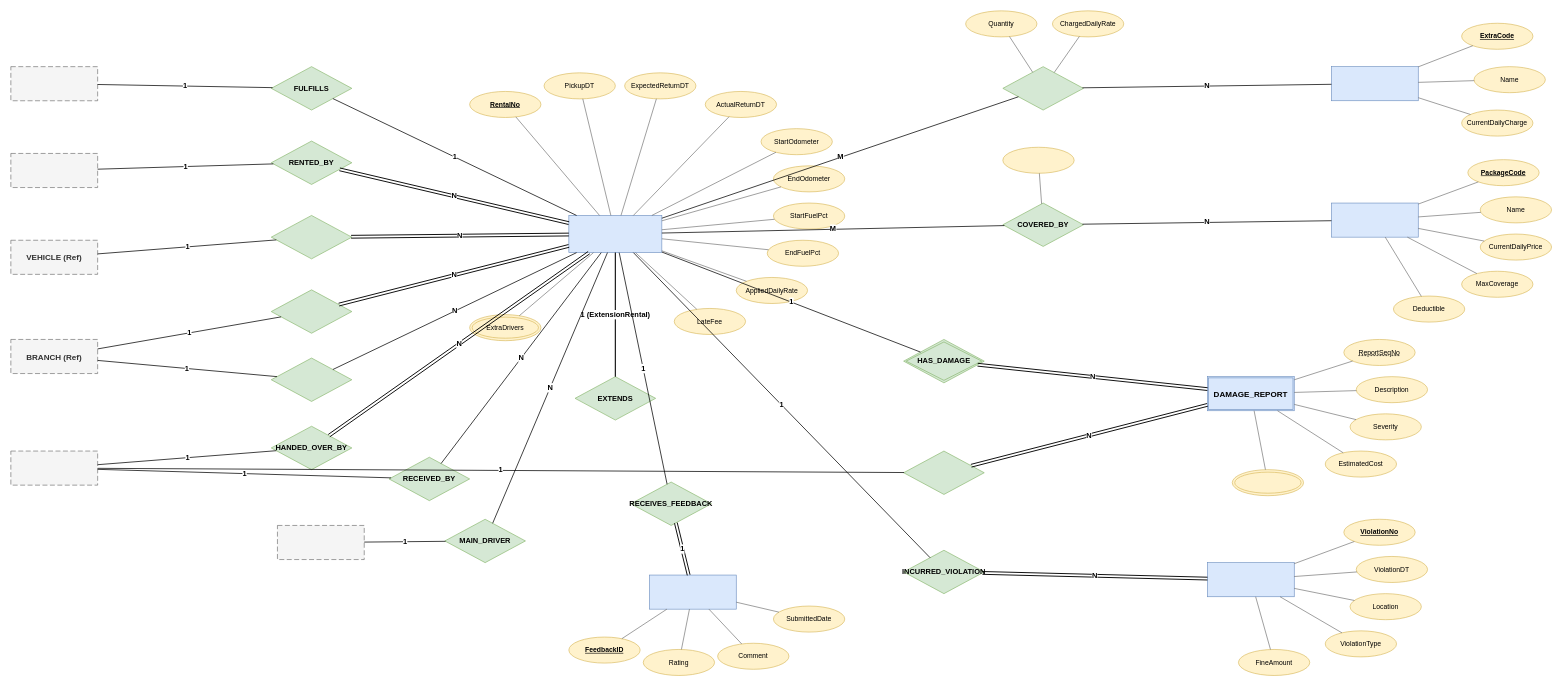
The diagram is 1562 pixels wide and 686 high, and some of its shapes have lost their labels. The centre of each missing label's shape, as x and y in pixels:
"ACTUAL_PICKUP" goes at point 311,311.
"ACTUAL_RETURN" goes at point 311,379.
"AUTHORIZED_DRIVER (Ref)" goes at point 320,542.
"ChargedDailyPrice" goes at point 1038,160.
"CUSTOMER (Ref)" goes at point 54,170.
"EMPLOYEE (Ref)" goes at point 54,467.
"EXTRA_EQUIPMENT" goes at point 1374,83.
"FEEDBACK" goes at point 692,591.
"INCLUDES_EXTRA" goes at point 1042,88.
"INSURANCE_PACKAGE" goes at point 1374,219.
"PhotoLinks" goes at point 1268,482.
"RENTAL" goes at point 615,234.
"REPORTED_BY" goes at point 943,472.
"RESERVATION (Ref)" goes at point 54,83.
"TRAFFIC_VIOLATION" goes at point 1250,579.
"USES_VEHICLE" goes at point 311,237.
